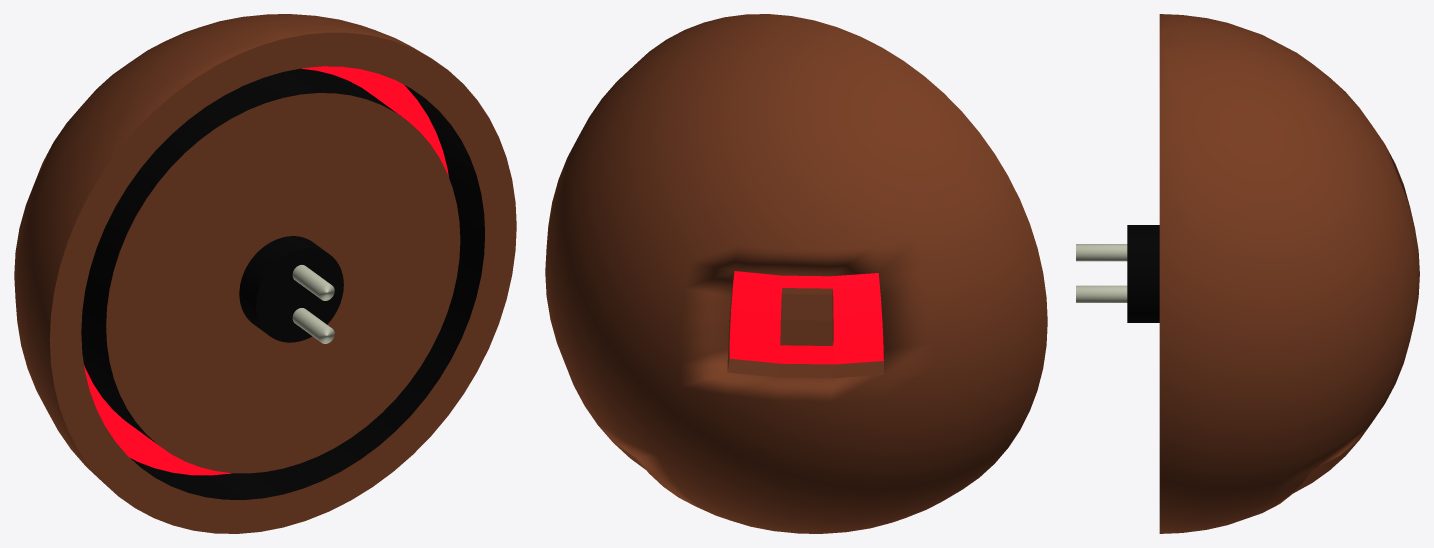
Rendered from VRbombRIGHT.fbx.
3 renders of one model, left to right at view 1: azimuth 30°, elevation 25°; view 2: azimuth 150°, elevation 25°; view 3: azimuth 270°, elevation 25°, orthographic. The views are drawn at different scales.
Parts seen in each view (by area): view 1: RIGHT; view 2: RIGHT; view 3: RIGHT.
Boxes of the visible parts, x1,y1,x2,y2 form: RIGHT: (14,14,516,533); RIGHT: (545,14,1047,533); RIGHT: (1076,14,1419,533).
Bounding box in the file's own units: 1158 × 1158 × 766.
